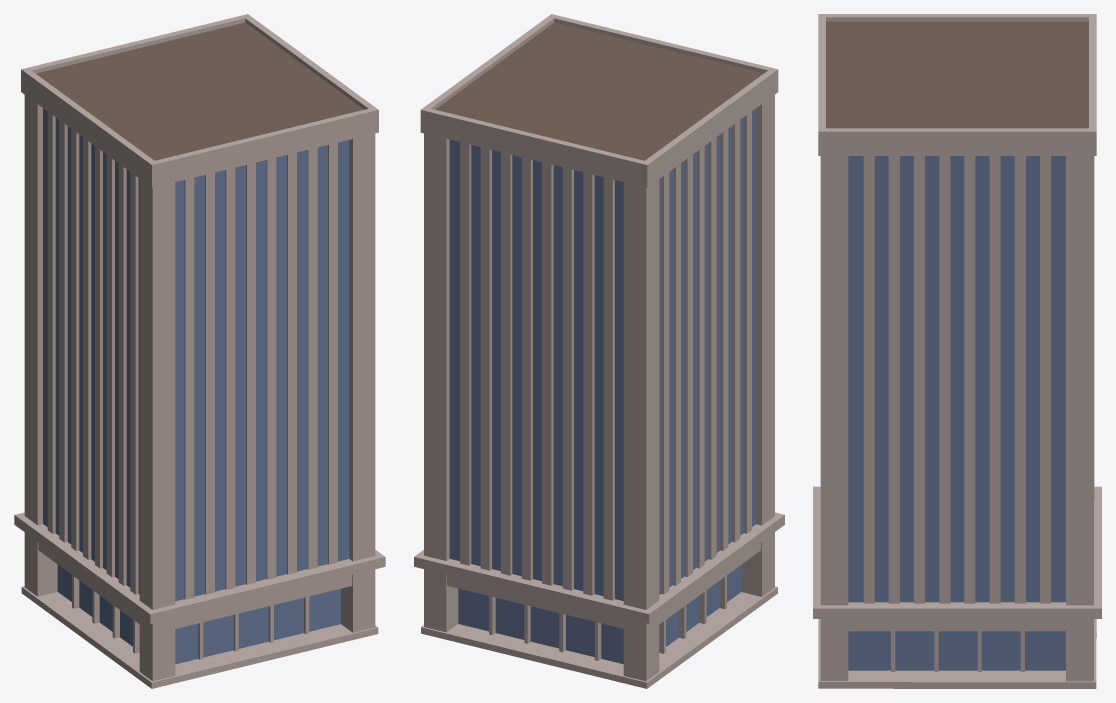
The model's file is LargeBuilding_08.fbx.
The picture shows the model from 3 angles, left to right: view 1: azimuth 30°, elevation 25°; view 2: azimuth 150°, elevation 25°; view 3: azimuth 270°, elevation 25°; orthographic projection. The views are drawn at different scales.
Visible parts, largest first — view 1: LargeBuilding_08; view 2: LargeBuilding_08; view 3: LargeBuilding_08.
Part boxes in pixels (box(x1,y1,x2,y2)): LargeBuilding_08: box(14, 14, 385, 688); LargeBuilding_08: box(414, 14, 784, 688); LargeBuilding_08: box(813, 14, 1101, 688).
Bounding box in the file's own units: 14.69 × 31.27 × 14.69.
